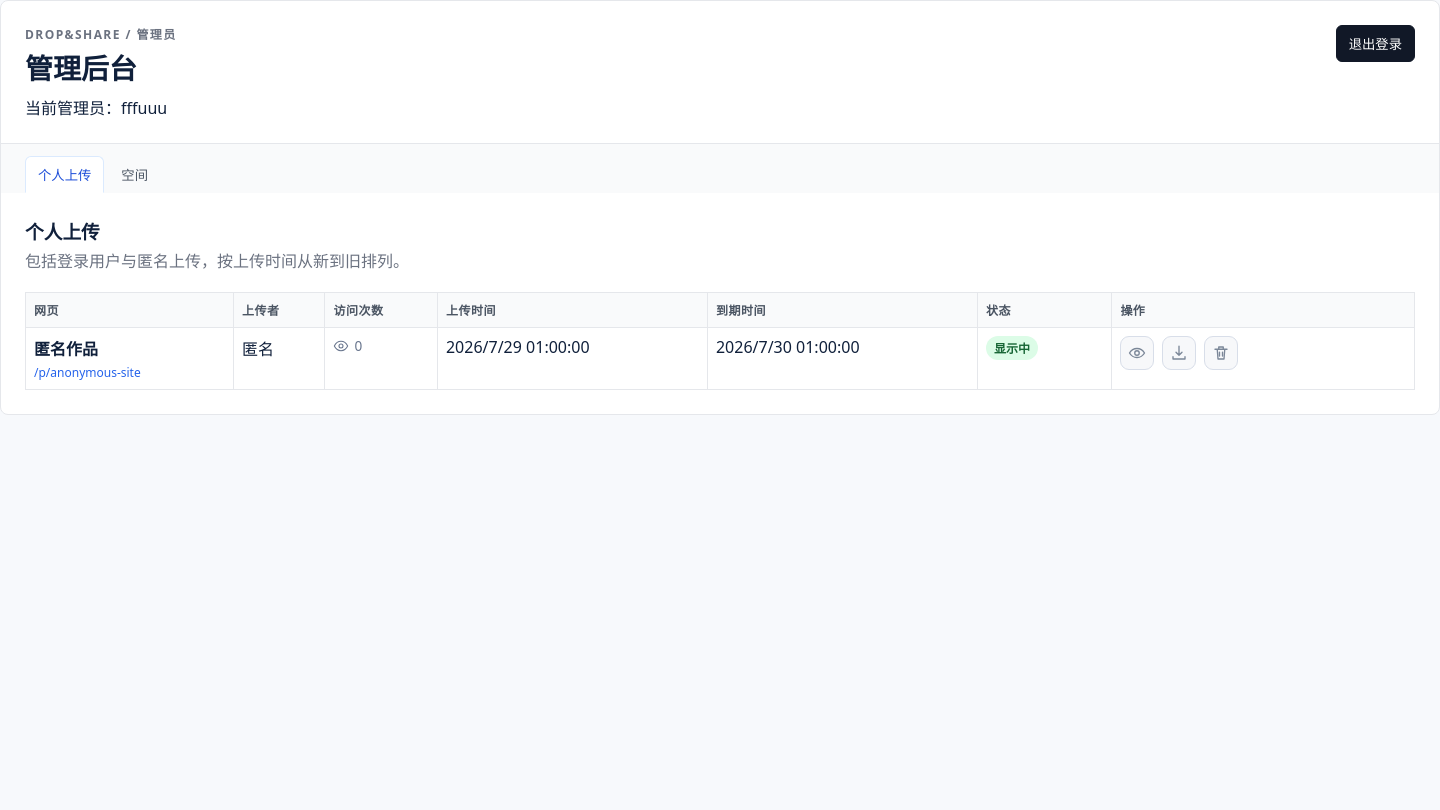
Test: AdminPage › edits a space name and slug from the administrator list
Click the button "空间" at (135, 174), box [108,156,161,193]
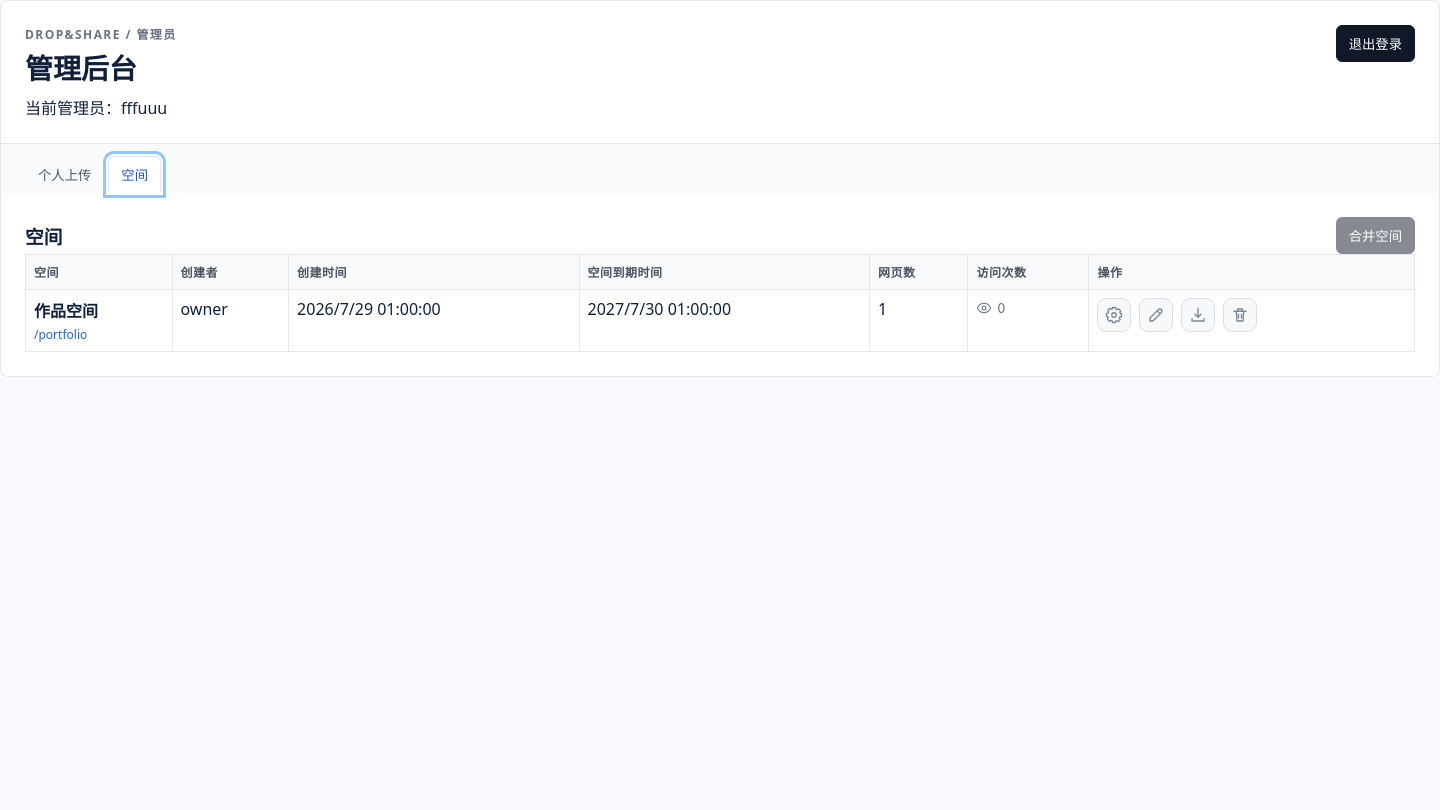
Click the button named "编辑空间作品空间" at (1156, 315), box [1140,298,1174,332]
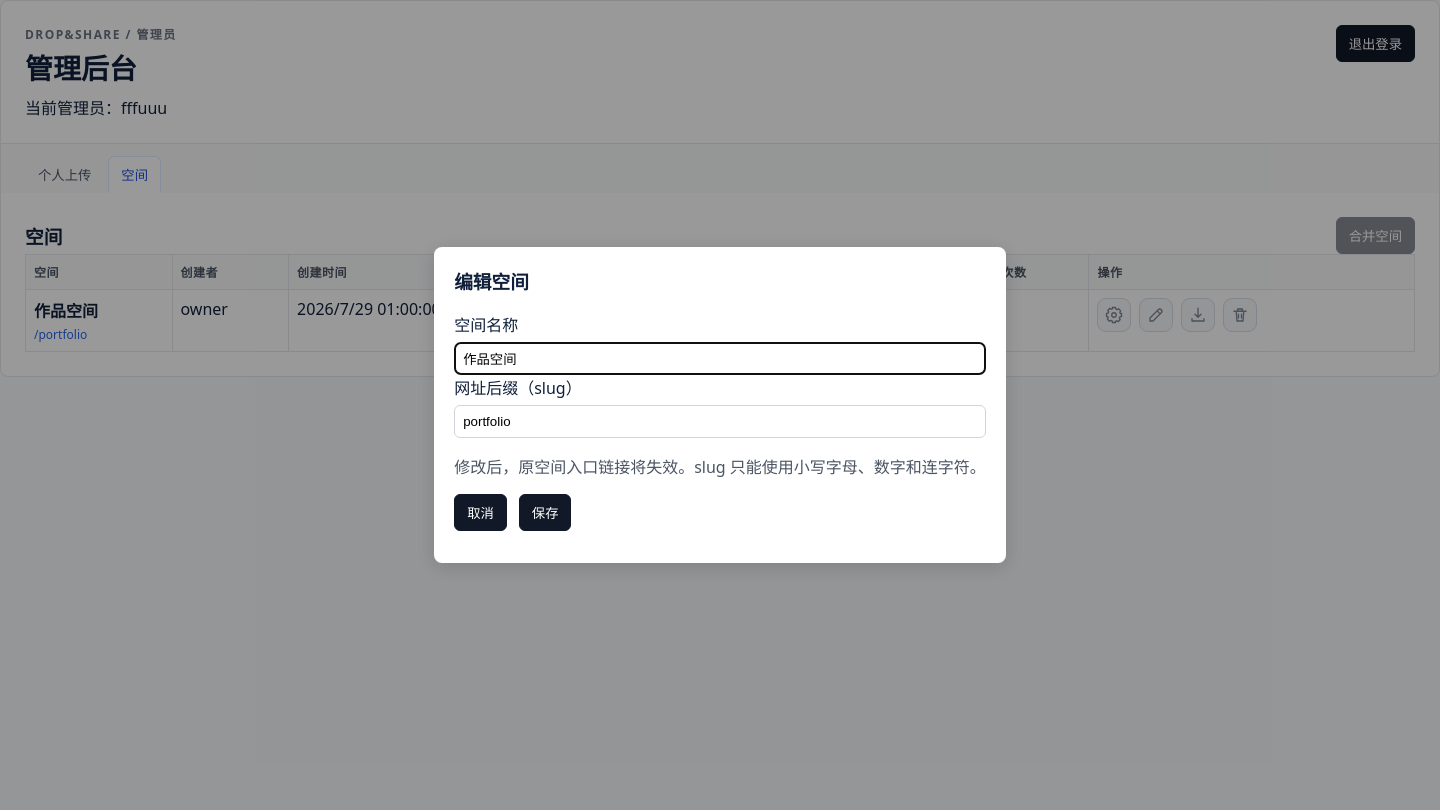
Replace the text in the field labelled "空间名称" with "新空间" at (720, 359), box [454,342,986,375]
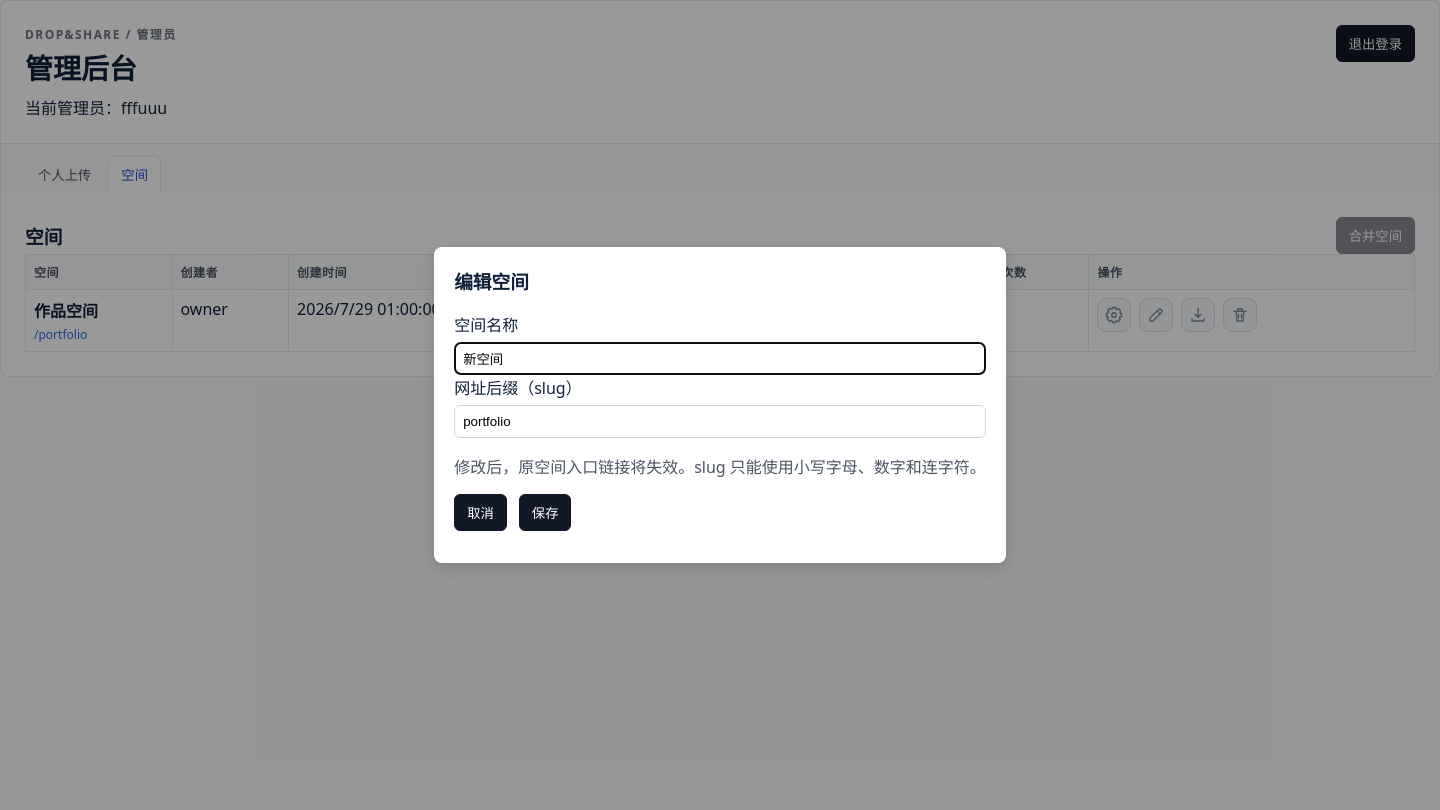
Replace the text in the field labelled "网址后缀（slug）" with "new-space" at (720, 422), box [454,405,986,438]
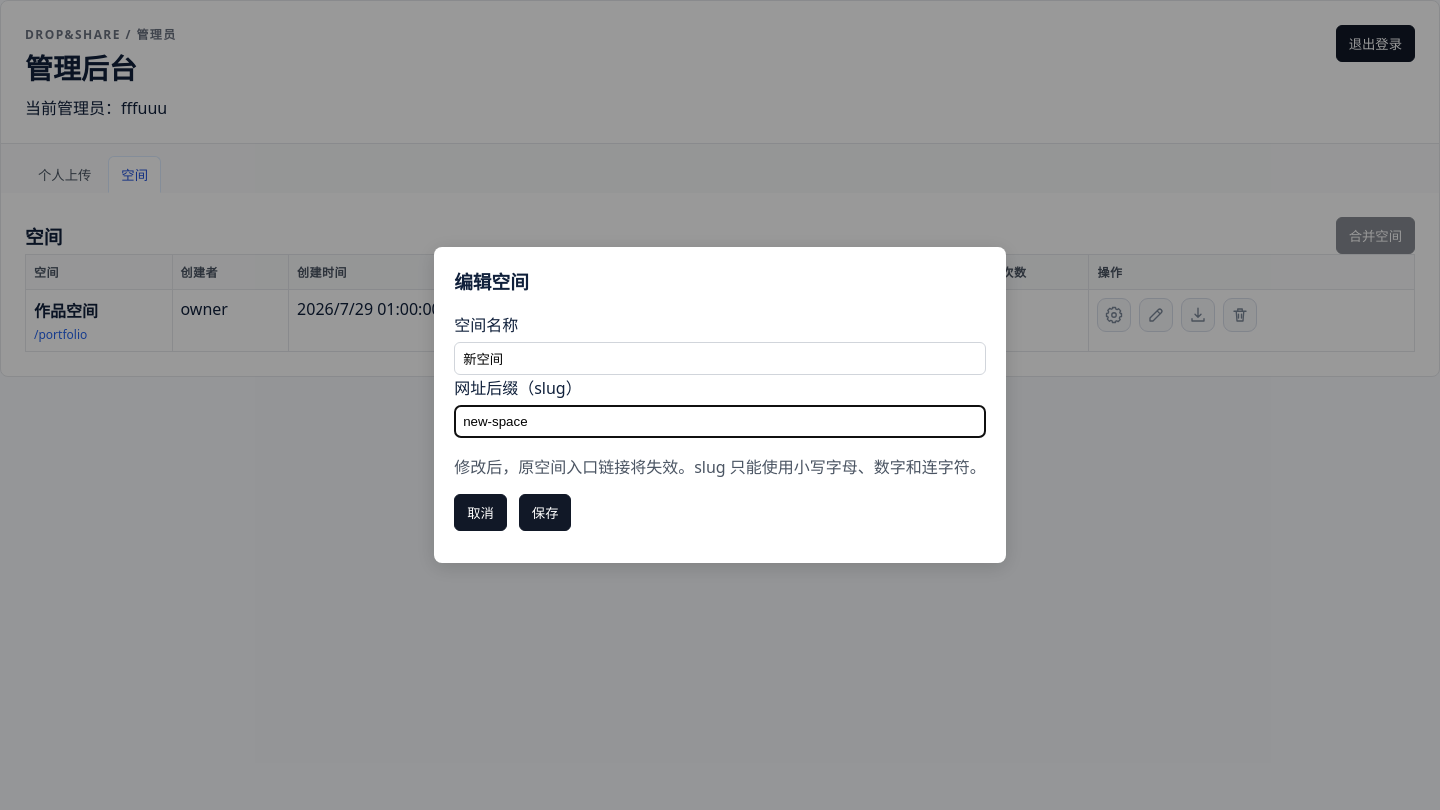
Click the button "保存" at (545, 513), box [519,494,572,531]
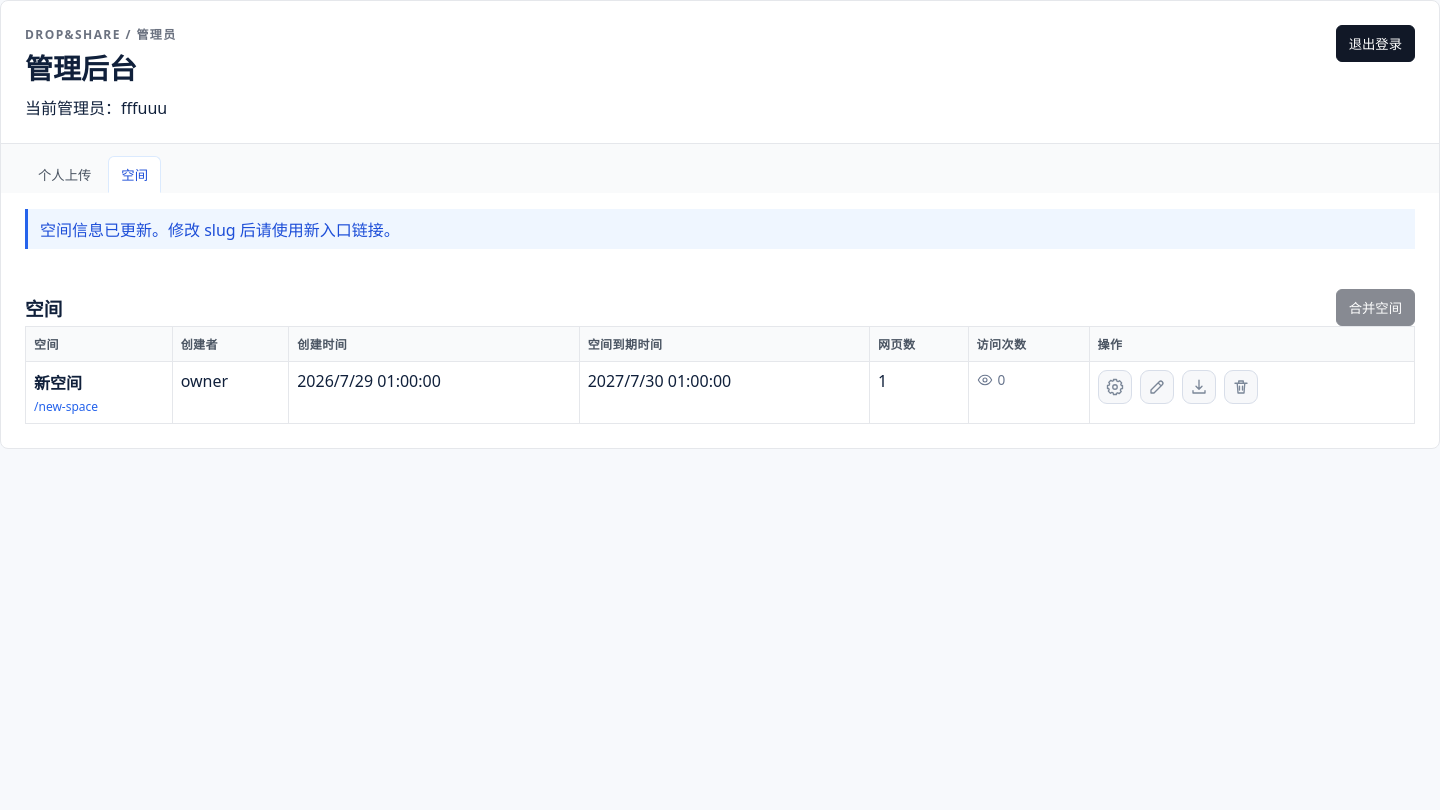
Expected: the text "新空间" is shown, [34,372,82,394]
